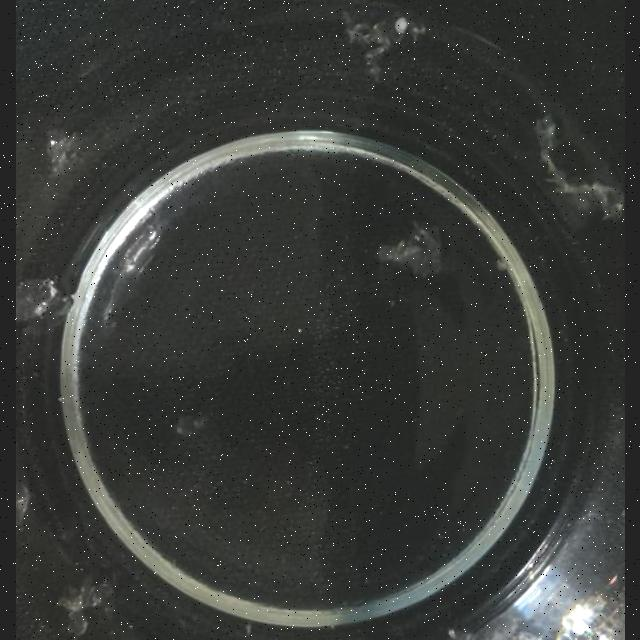Fibre: (531, 115, 625, 223), (348, 10, 427, 72), (376, 219, 442, 277), (54, 574, 112, 638), (16, 278, 68, 328), (44, 130, 82, 177), (448, 26, 508, 54), (174, 412, 206, 436), (15, 484, 29, 526), (495, 256, 509, 272), (244, 622, 252, 636)
microbeads: (395, 18, 409, 34)
